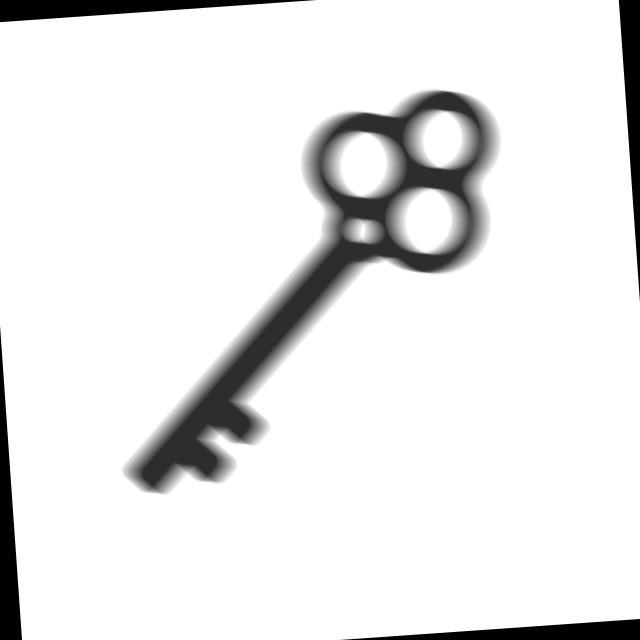key: (90, 80, 533, 508)
